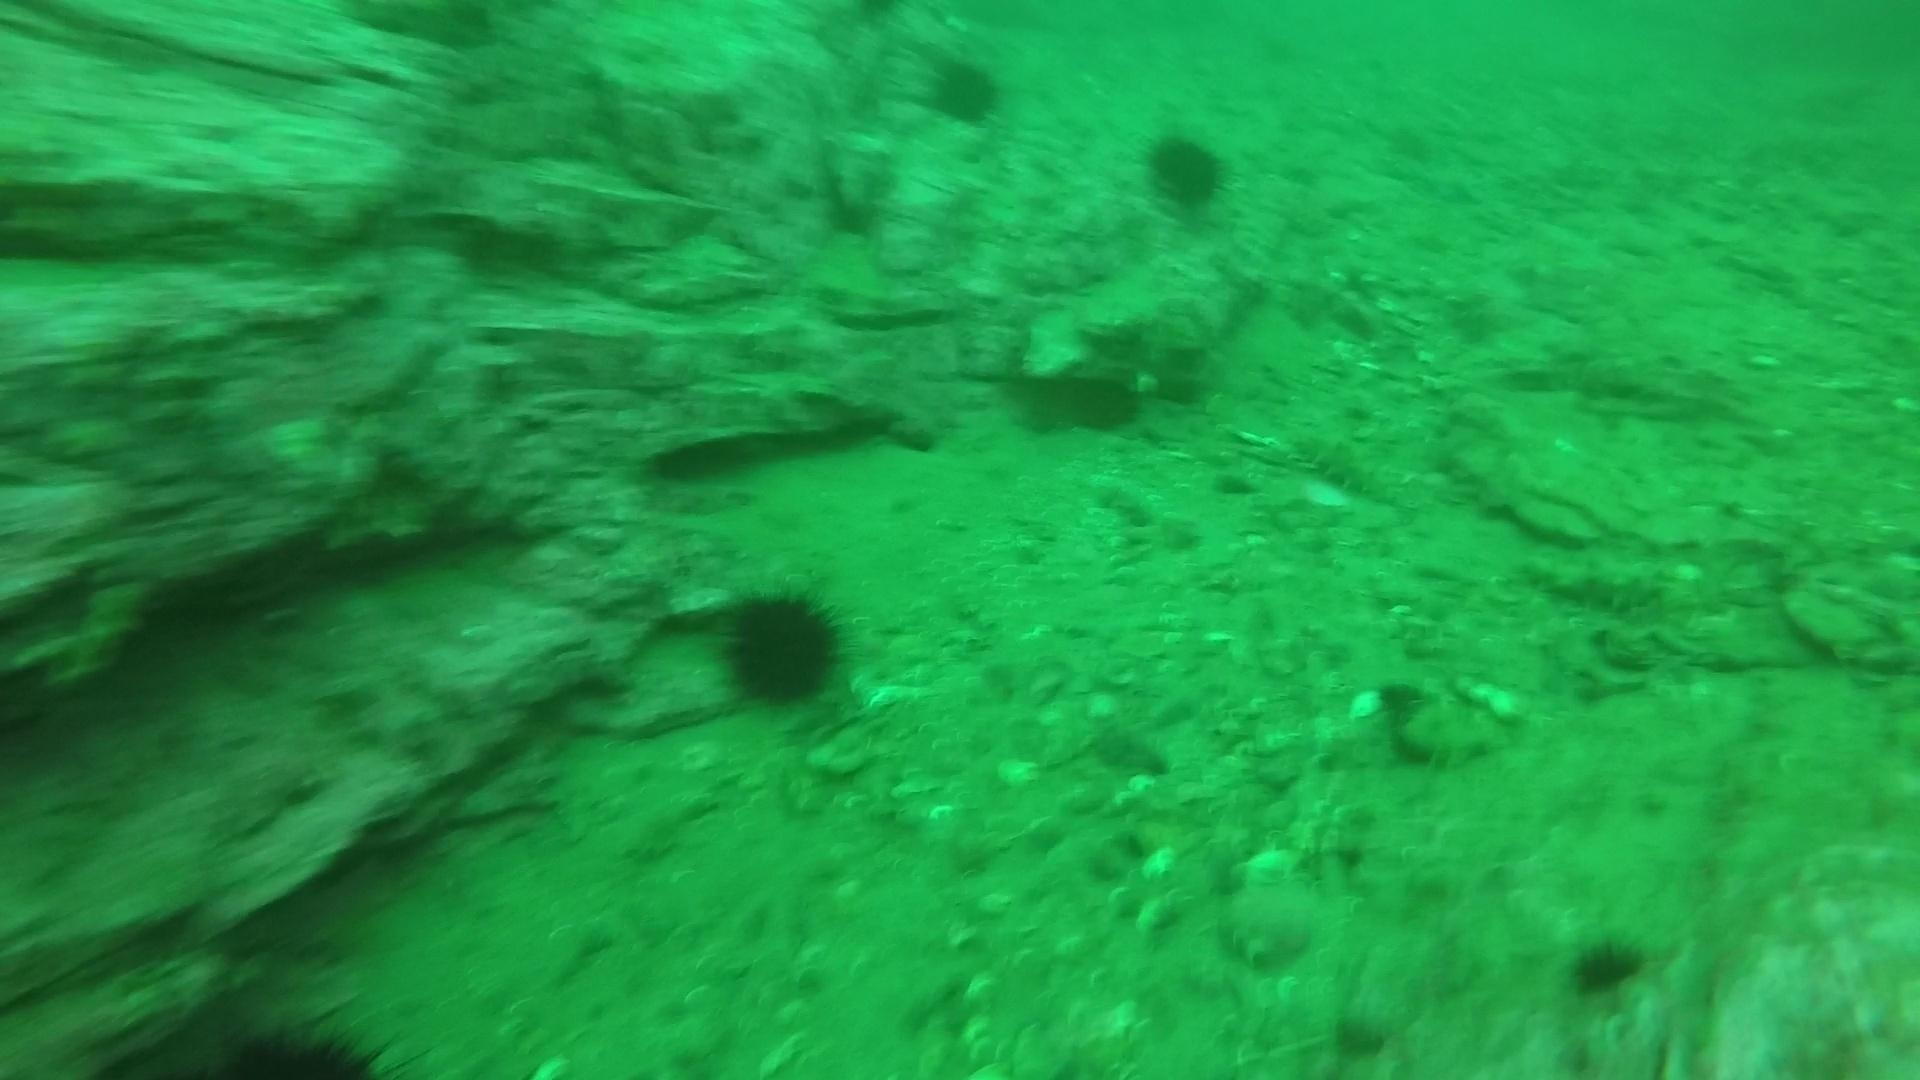echinus: (713, 579, 855, 713), (222, 1011, 394, 1076), (1137, 123, 1236, 218), (919, 49, 1011, 132), (1563, 928, 1652, 1005)
holothurian: (1522, 550, 1675, 621)
